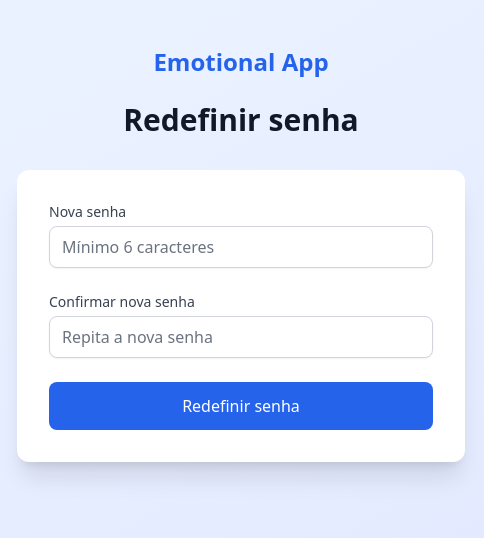
Test: ResetPasswordPage (KAN-17/KAN-78) › backend rejects an invalid/expired token: shows the backend message, not the success screen
This screenshot has width=484, height=538.
Step 1. Type "novaSenhaSegura123" into the password field labelled "Nova senha" → (241, 247), box [49, 226, 433, 268]
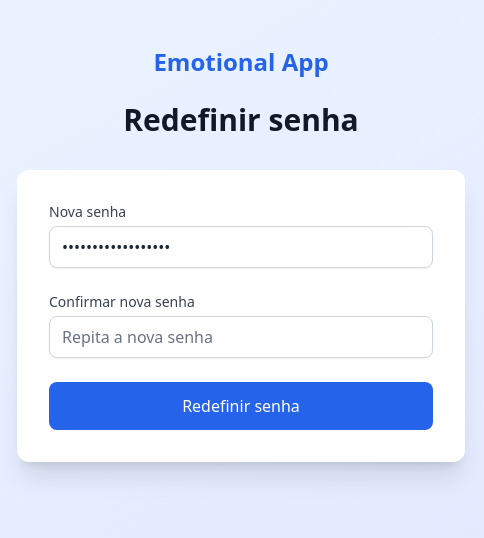
Step 2. Type "novaSenhaSegura123" into the password field labelled "Confirmar nova senha" → (241, 337), box [49, 316, 433, 358]
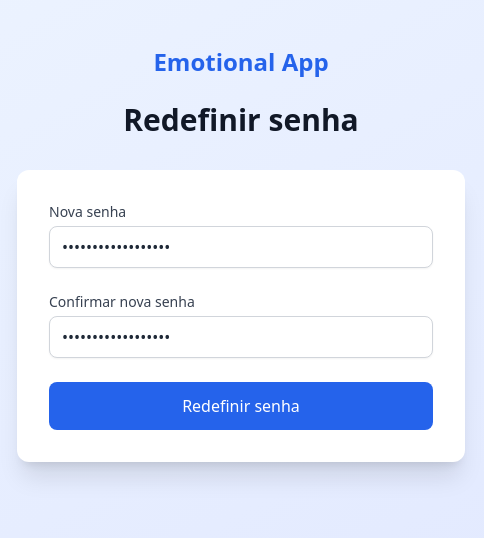
Step 3. Click the button "Redefinir senha" → click(241, 406), box [49, 382, 433, 430]
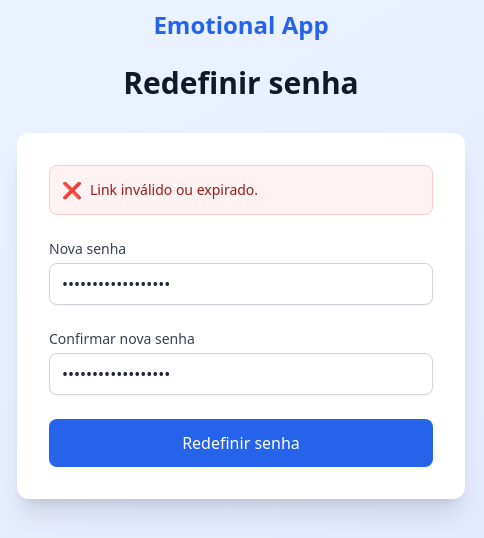
Expected: the text "Link inválido ou expirado." is shown, [90, 180, 258, 200]
